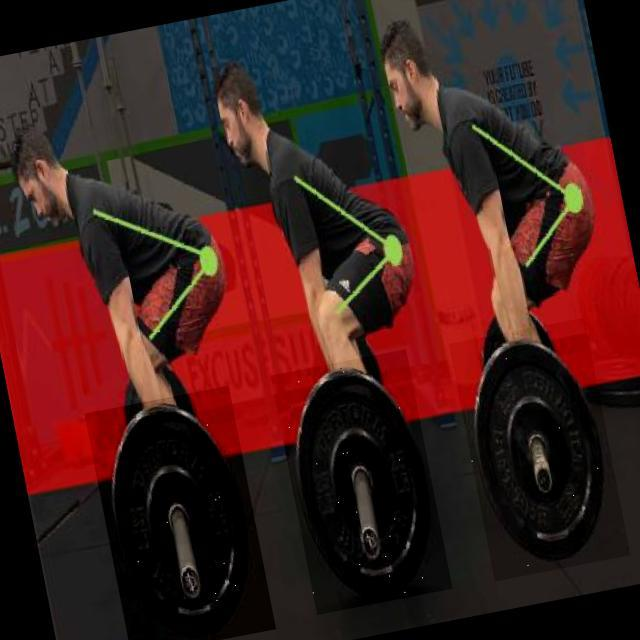barbell: (85, 387, 277, 640), (272, 350, 454, 616), (450, 319, 632, 583)
